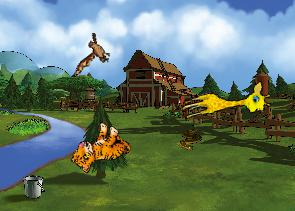eagle: (71, 30, 113, 81)
giraffe: (179, 79, 273, 130)
tiger: (67, 115, 135, 185)
